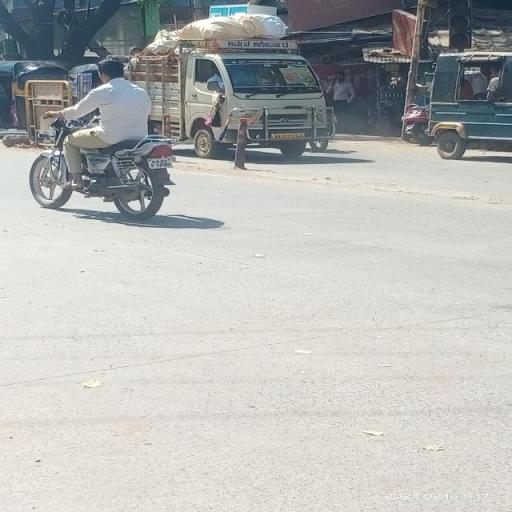bike: (24, 57, 193, 220)
withouthelmet: (95, 58, 125, 80)
